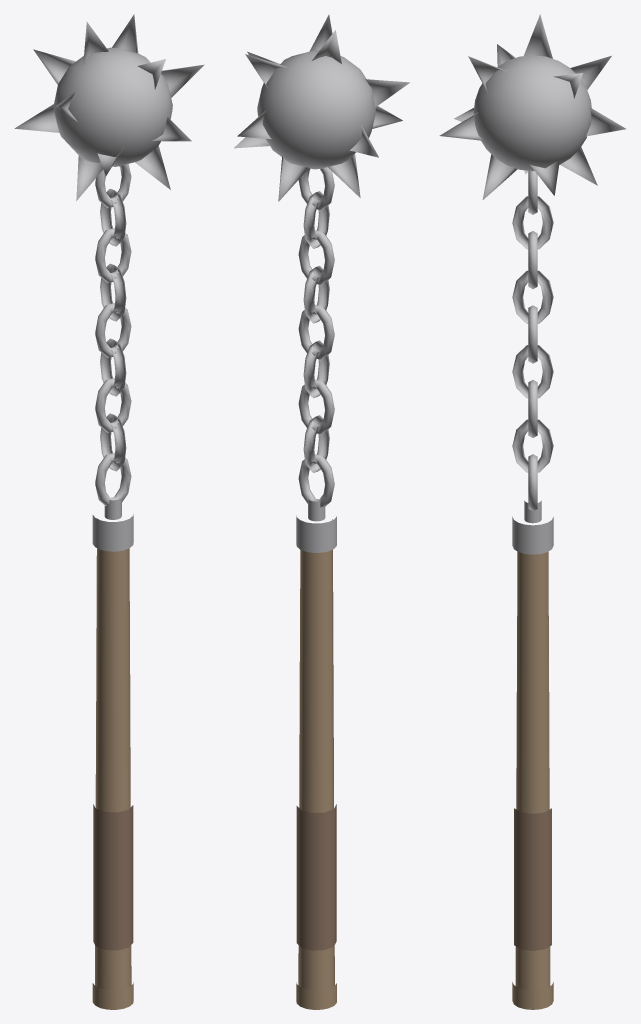
Rendered from Flail.glb.
3 renders of one model, left to right at view 1: azimuth 30°, elevation 25°; view 2: azimuth 150°, elevation 25°; view 3: azimuth 270°, elevation 25°, orthographic.
Parts seen in each view (by area): view 1: Ball, Haft, Chain, Grip, Cap; view 2: Ball, Haft, Chain, Grip, Cap; view 3: Ball, Haft, Chain, Grip, Cap.
Part boxes in pixels (x1,y1,x2,y2): Ball: (14, 14, 204, 200); Haft: (92, 518, 133, 1009); Chain: (95, 164, 131, 505); Grip: (93, 804, 133, 950); Cap: (92, 498, 133, 551); Ball: (234, 14, 409, 201); Haft: (296, 519, 336, 1009); Chain: (298, 167, 334, 507); Grip: (296, 804, 336, 950); Cap: (296, 498, 336, 552); Ball: (439, 14, 625, 199); Haft: (512, 551, 553, 1009); Chain: (512, 171, 553, 510); Grip: (514, 808, 551, 950); Cap: (512, 500, 553, 554).
Bounding box in the file's own units: 0.9544 × 5.54 × 0.9647.
